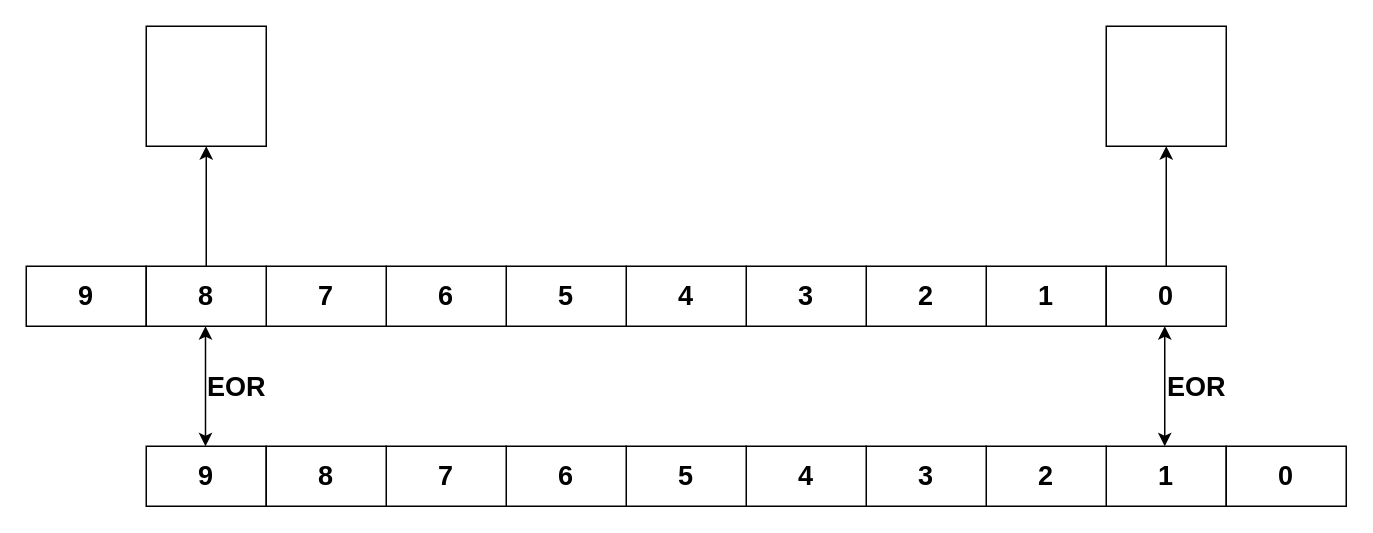
This 1373x533 diagram has some shape labels left out. The shapes that lost their labels are listed below. From the top down, each one's centre as x and y in pixels, then its label:
At [205,85]: "JOY UP".
At [1165,85]: "JOY DOWN".
